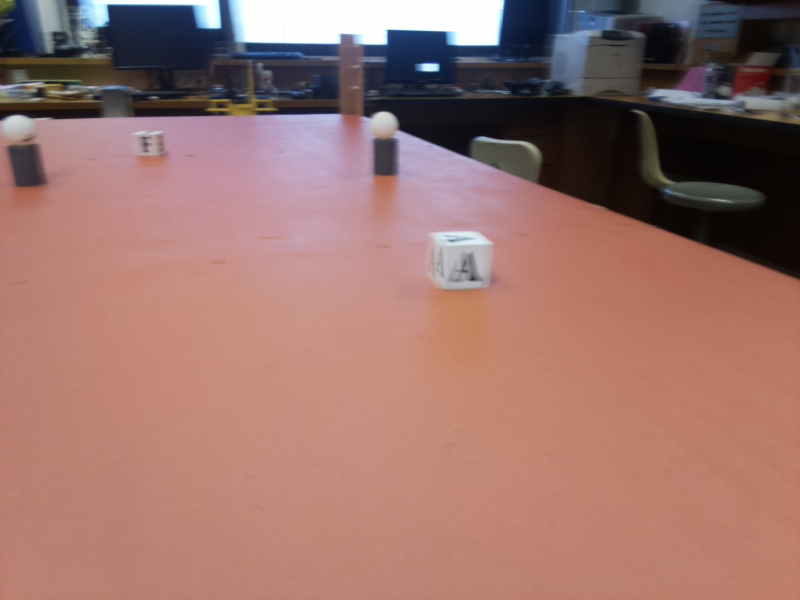blockA: (430, 228, 496, 293)
blockF: (134, 125, 166, 163)
corner: (340, 34, 362, 113)
obstacle: (7, 111, 41, 191), (370, 111, 400, 179)
